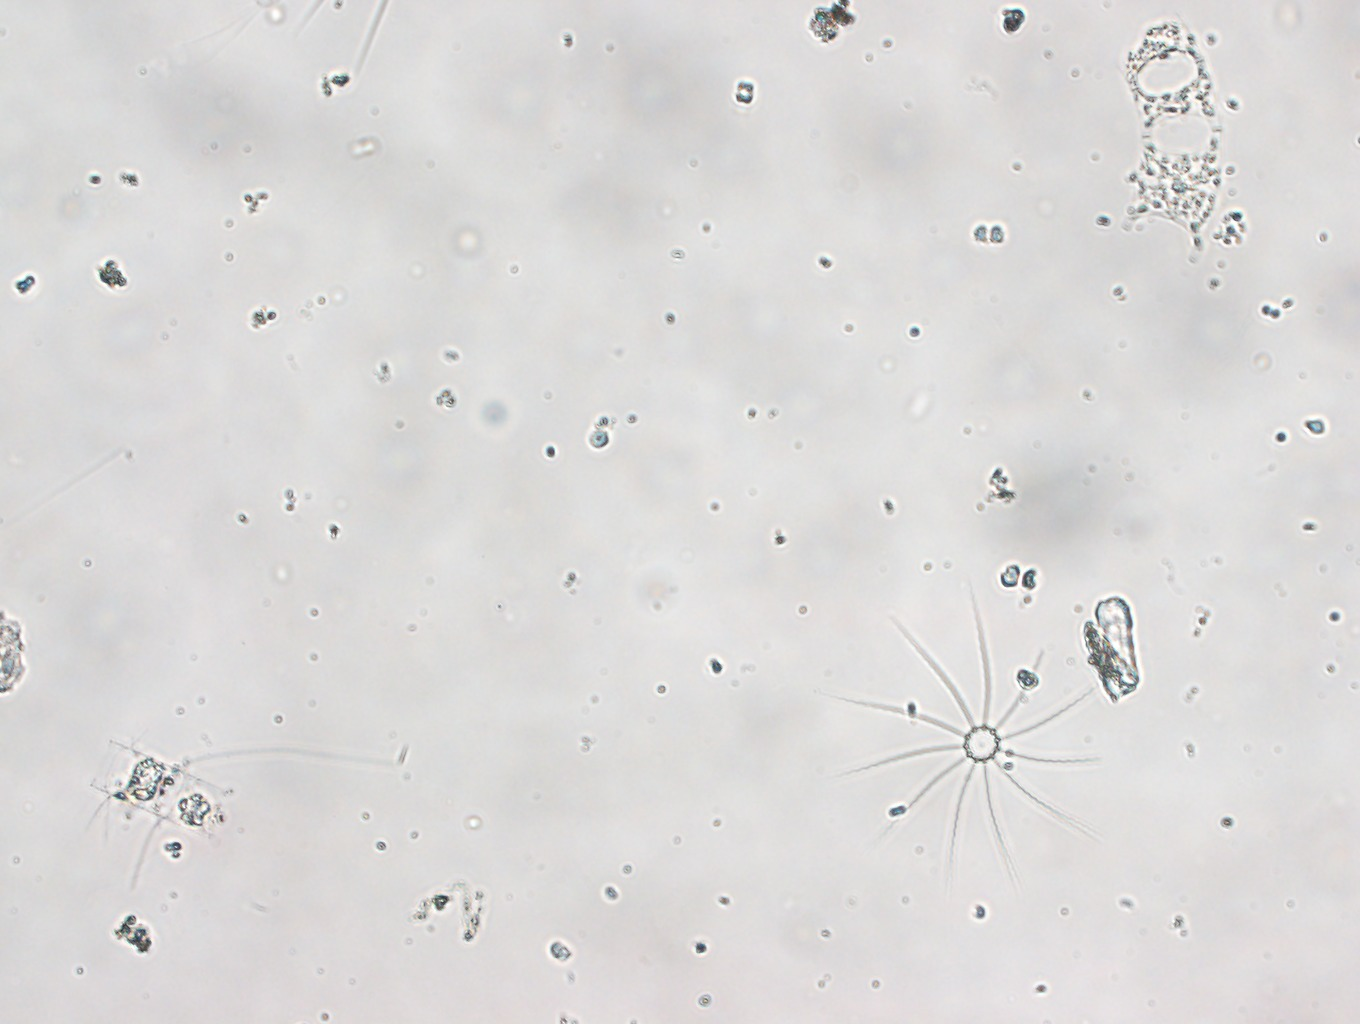bacteriastrum: (834, 584, 1111, 881)
eucampia: (1120, 11, 1220, 234)
